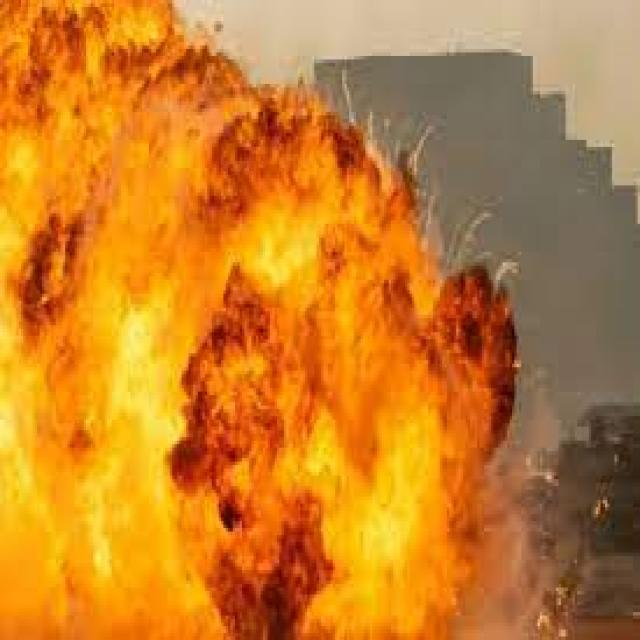fire: (11, 80, 516, 636)
